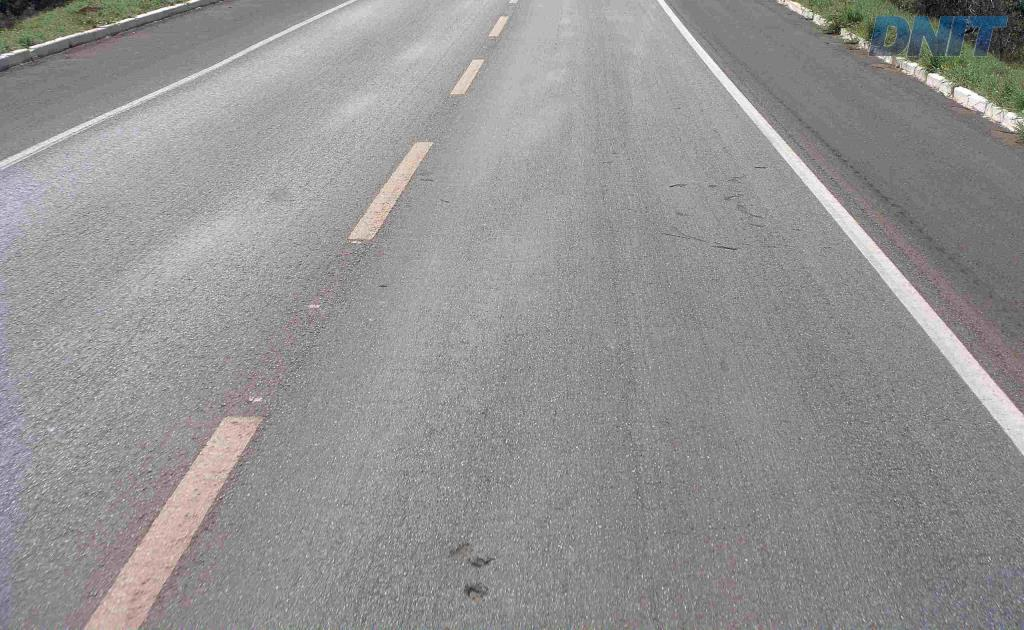pothole: (441, 537, 504, 569), (459, 580, 495, 604)
